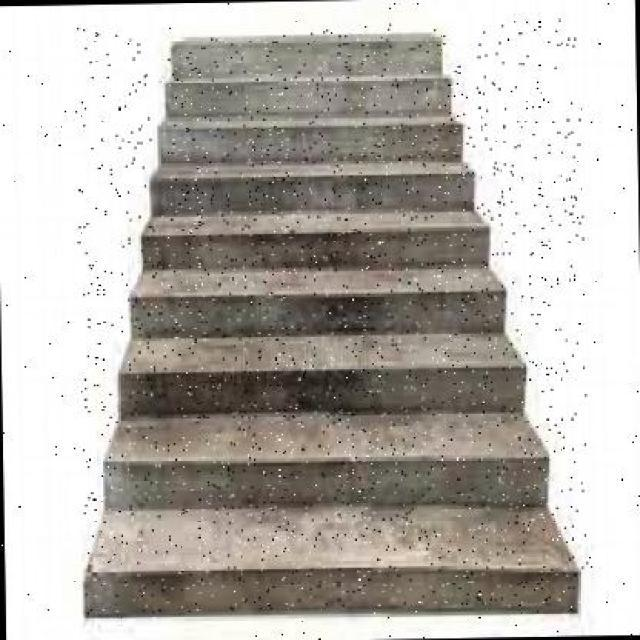Stairs: (85, 23, 579, 617)
